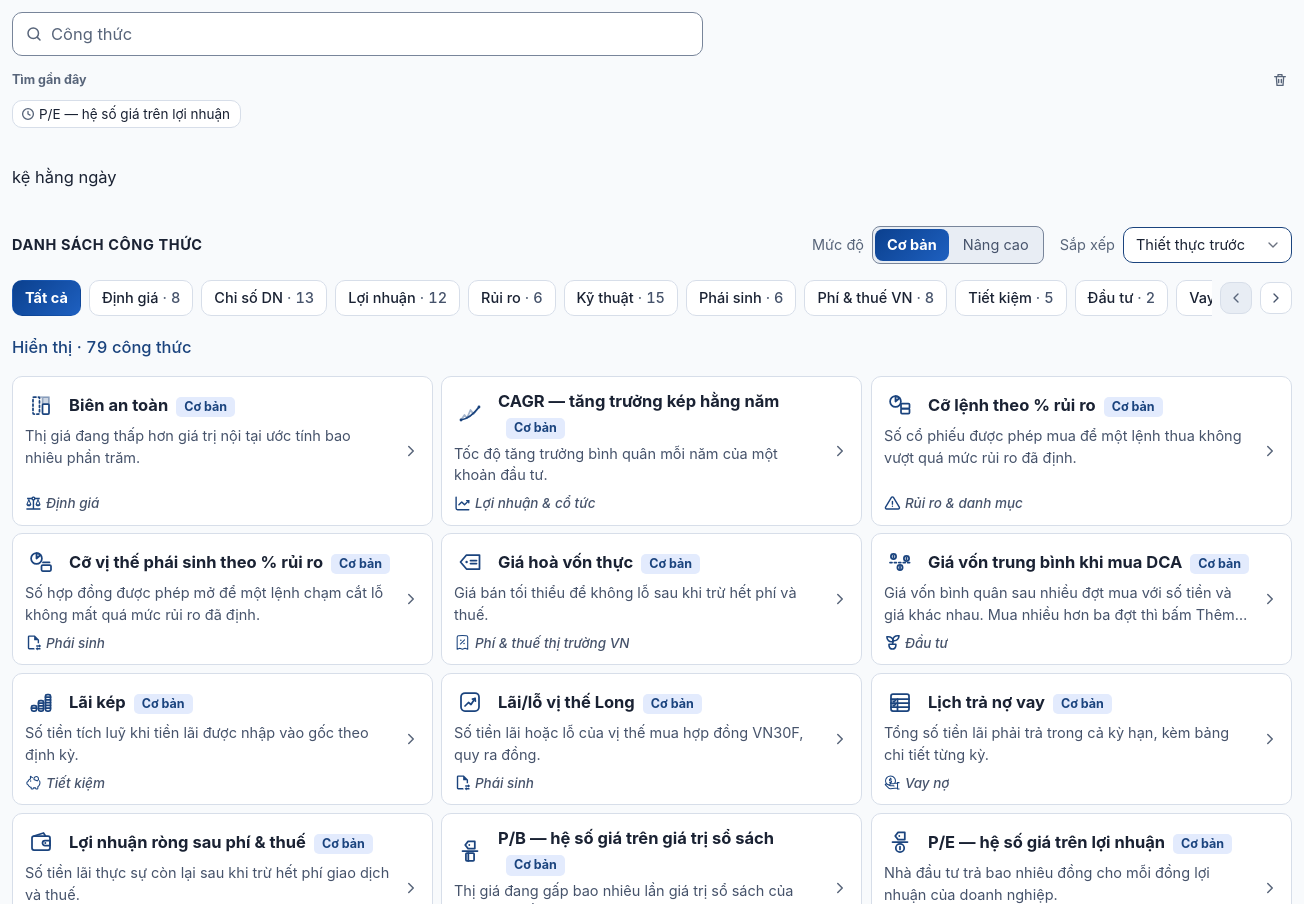
FormulaListScreen — ô tìm lọc cả danh sách tại chỗ › bấm chip "Tìm gần đây" thì lọc ngay tại chỗ, không chuyển màn
The image size is (1304, 904).
What coordinates should you click on to do the following:
click the button "P/E — hệ số giá trên lợi nhuận"
I would click on:
 (127, 114)
Its box is [12, 100, 241, 128].
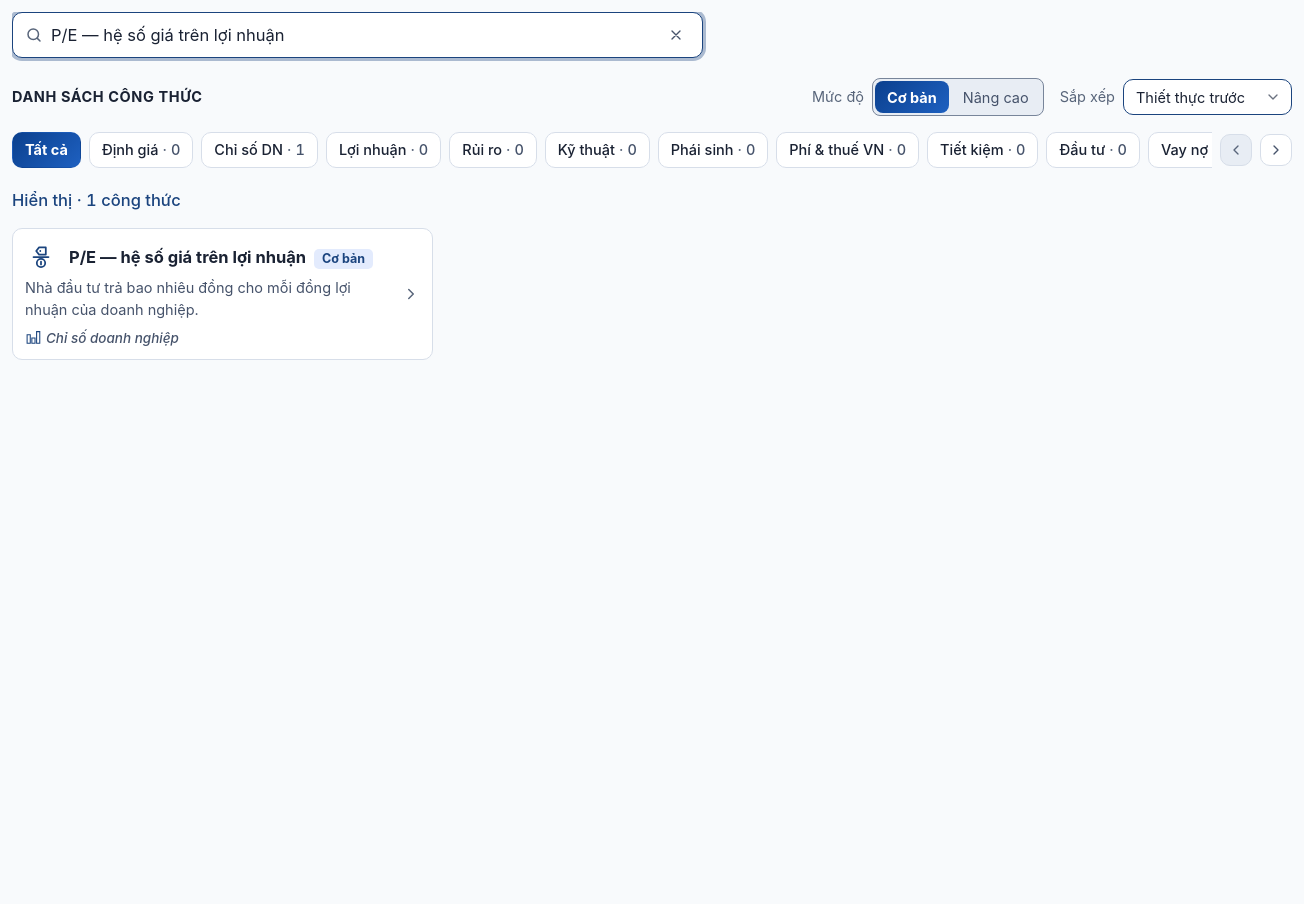
Expected: the search field named "Tìm công thức" holds "P/E — hệ số giá trên lợi nhuận", [51, 25, 646, 45]
